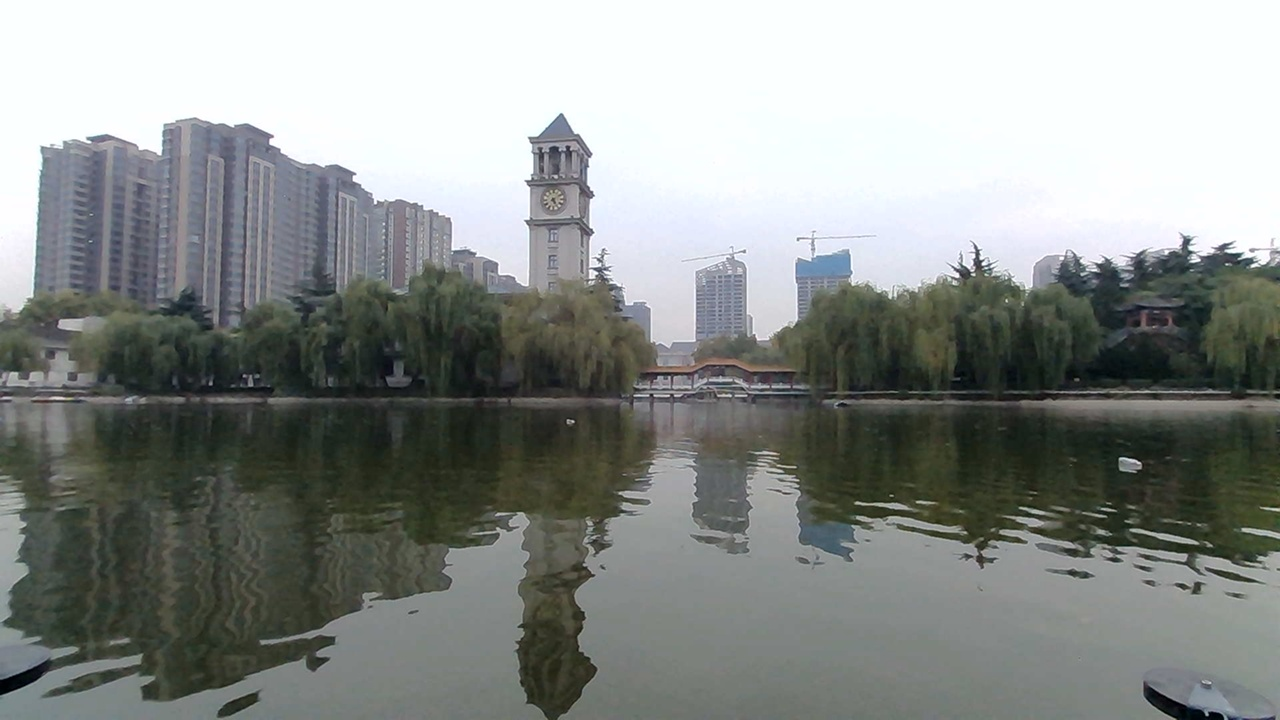bottle: (1115, 453, 1147, 474)
